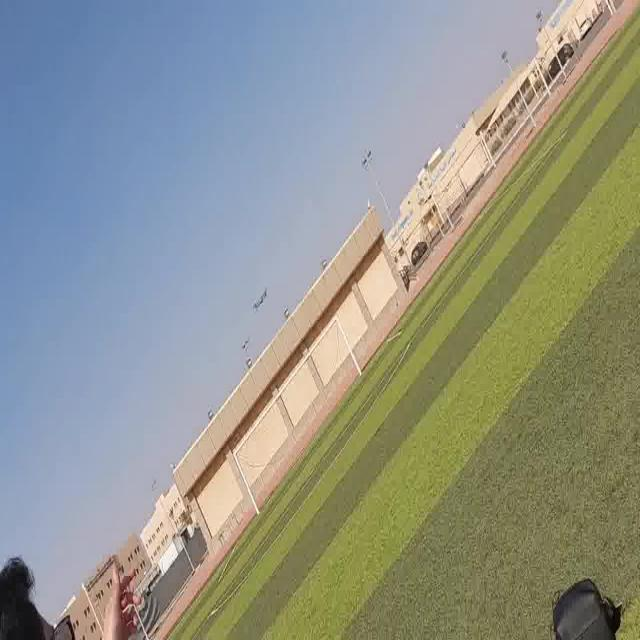drone: (248, 271, 274, 312)
